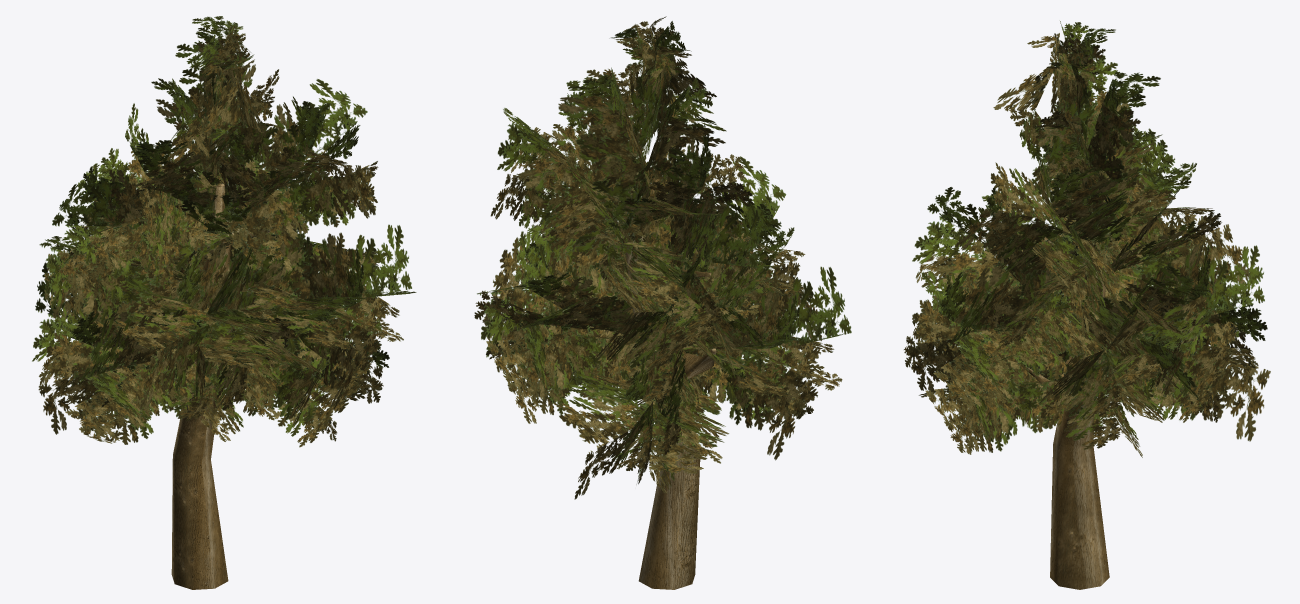
The model's file is tree.glb.
3 renders of one model, left to right at view 1: azimuth 30°, elevation 25°; view 2: azimuth 150°, elevation 25°; view 3: azimuth 270°, elevation 25°, orthographic.
Parts seen in each view (by area): view 1: tree-stylized-04-green; view 2: tree-stylized-04-green; view 3: tree-stylized-04-green.
Part boxes in pixels (x1,y1,x2,y2): tree-stylized-04-green: (32,16,416,589); tree-stylized-04-green: (474,16,851,589); tree-stylized-04-green: (904,21,1270,589).
Bounding box in the file's own units: 9 × 13.51 × 8.61.
Materials: 2 (2 with a texture image).
